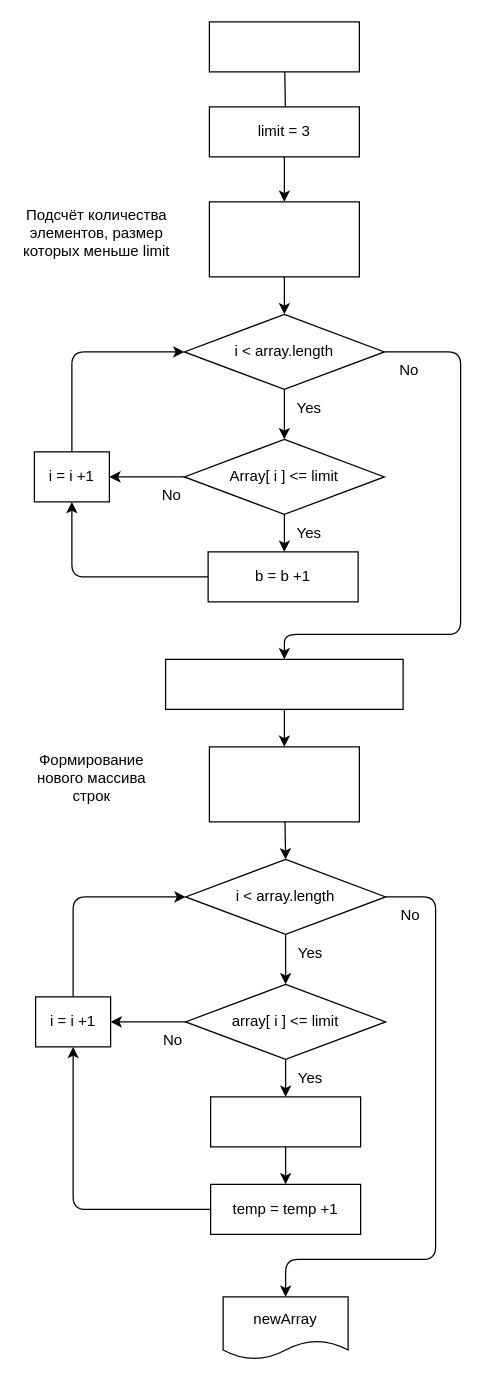
This 493x1381 diagram has some shape labels left out. The centre of each missing label's shape, as x and y in pixels:
"newArray[ temp] = array[ i ]" belongs at [285,1121].
"инициализация нового массива(newArray), размером b" belongs at [283,683].
"получение массива строк (array)" belongs at [283,46].
"счётчики: i = 0 b = 0" belongs at [283,239].
"счётчики: temp = 0 i = 0" belongs at [283,784].
